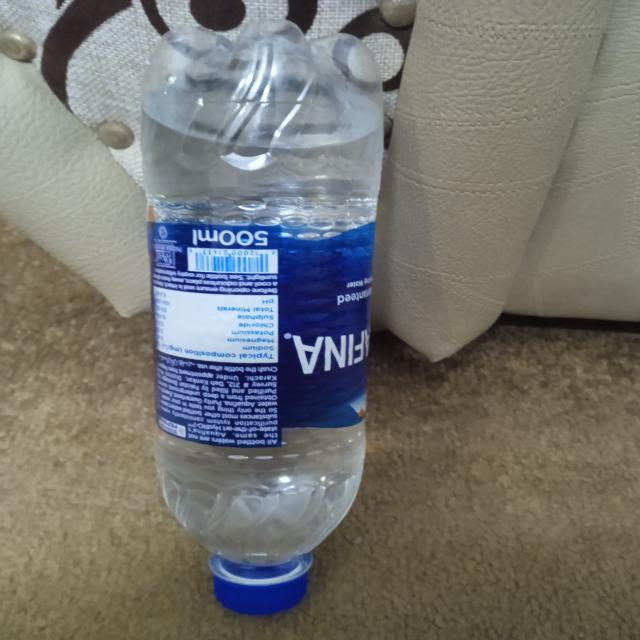Plastic: (132, 20, 388, 617)
